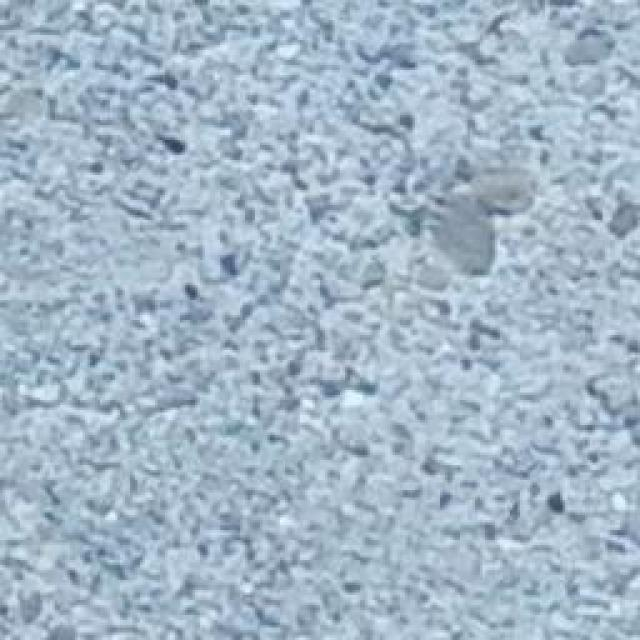concrete-crack: (10, 367, 215, 423)
